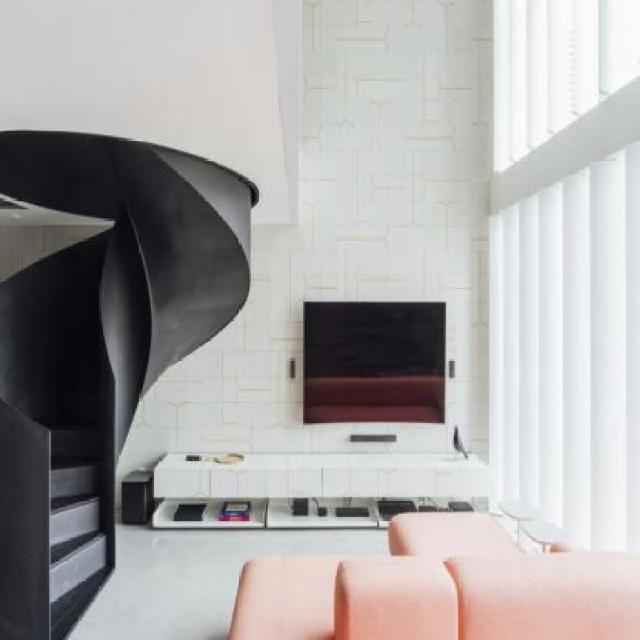stair: (2, 206, 124, 640)
